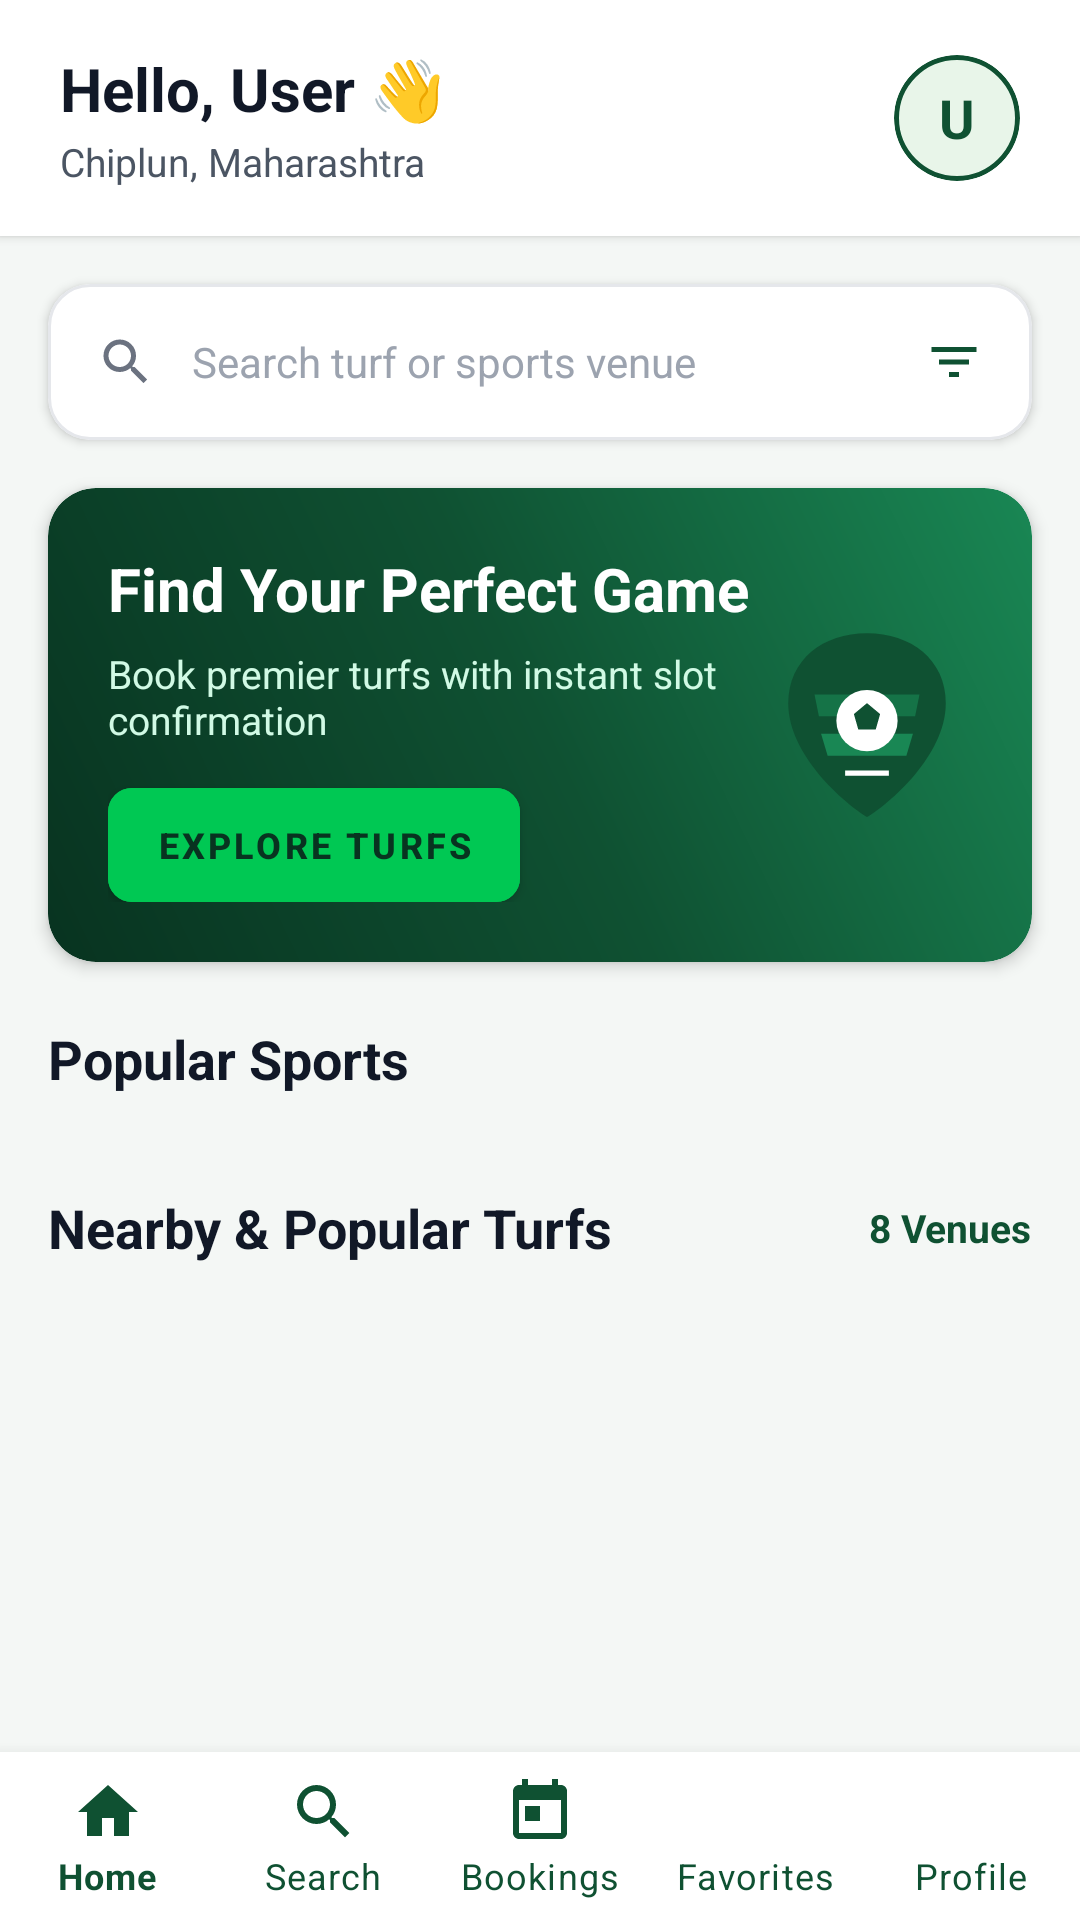

Named icons in this screenshot (1080 x 1920) and their centers, (x,y):
filter: (954,362)
